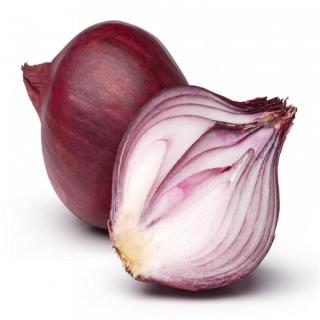Bawang Merah: (18, 18, 302, 296)
